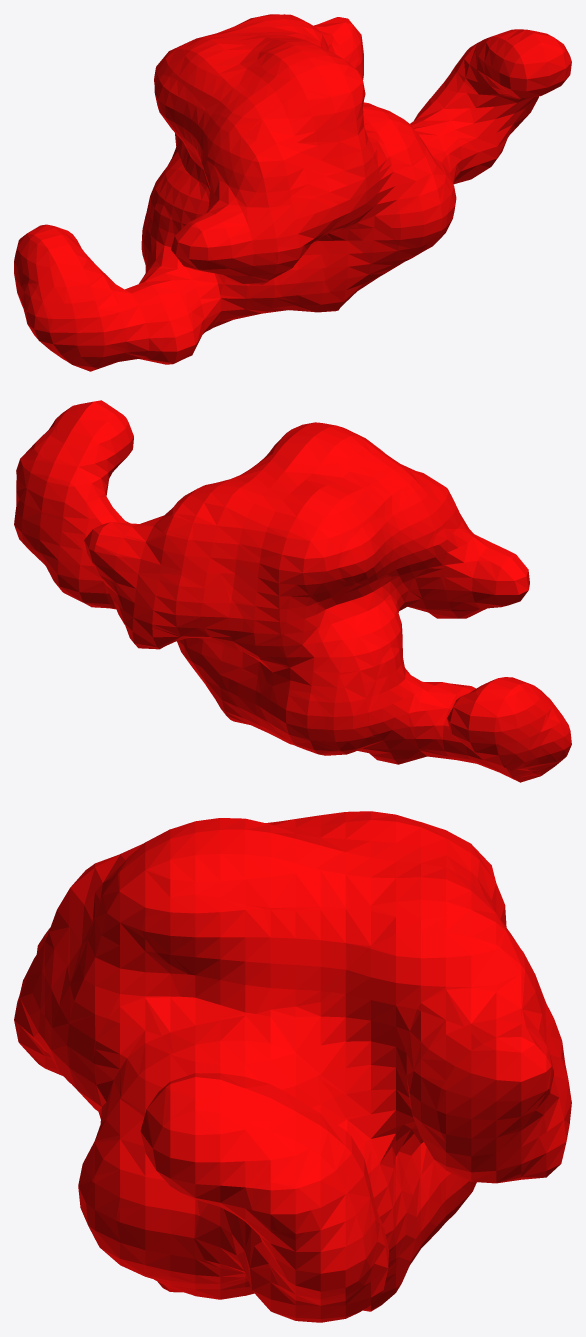
File: yejL_coarse.dae
3 renders of one model, top to bottom at view 1: azimuth 30°, elevation 25°; view 2: azimuth 150°, elevation 25°; view 3: azimuth 270°, elevation 25°, orthographic. The views are drawn at different scales.
Parts seen in each view (by area): view 1: yejL; view 2: yejL; view 3: yejL.
Boxes of the visible parts, x1=… form: yejL: x1=14, y1=14, x2=571, y2=371; yejL: x1=14, y1=400, x2=571, y2=782; yejL: x1=14, y1=811, x2=571, y2=1322.
Size of the model in its own units: 81.43 by 41.05 by 42.99.
